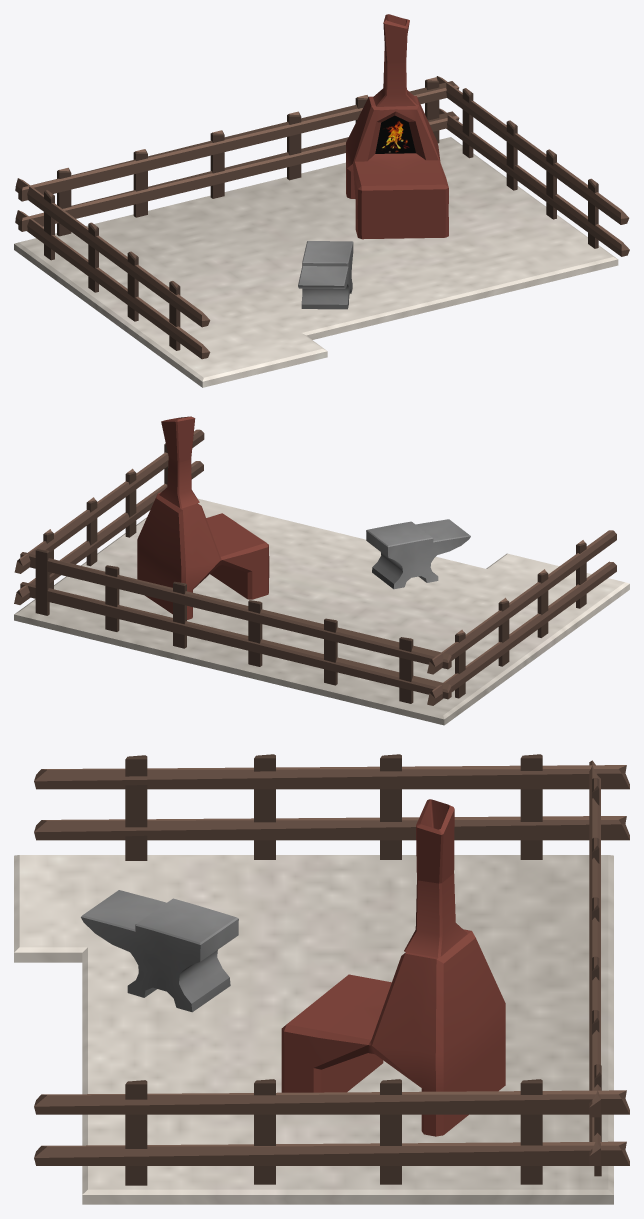
The model's file is Blacksmith_0lvl.fbx.
The picture shows the model from 3 angles, top to bottom: view 1: azimuth 30°, elevation 25°; view 2: azimuth 150°, elevation 25°; view 3: azimuth 270°, elevation 25°; orthographic projection. The views are drawn at different scales.
Parts seen in each view (by area): view 1: blacksmith_0lvl_color; view 2: blacksmith_0lvl_color; view 3: blacksmith_0lvl_color.
Part boxes in pixels (box(x1,y1,x2,y2)): blacksmith_0lvl_color: box(14, 14, 629, 387); blacksmith_0lvl_color: box(14, 416, 629, 725); blacksmith_0lvl_color: box(14, 754, 629, 1204).
Bounding box in the file's own units: 6.01 × 2.56 × 4.6.
